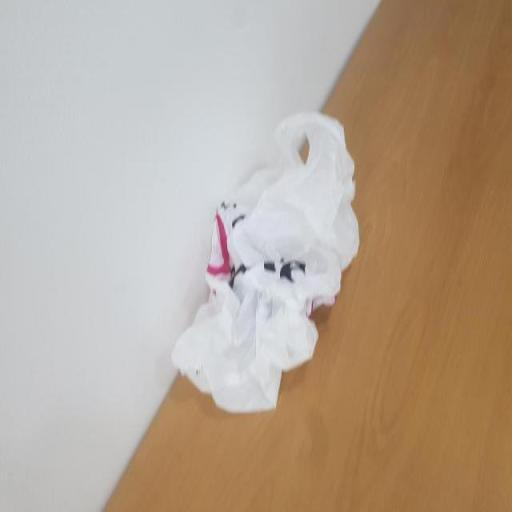plastic-bag: (164, 104, 364, 418)
